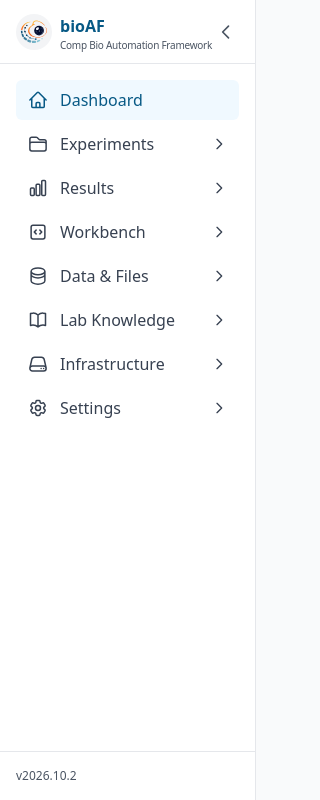
Test: Sidebar component gating › hides QC Dashboards when qc_dashboard component is not enabled
Click the button "Results": point(128, 188) x1=16 y1=168 x2=239 y2=208
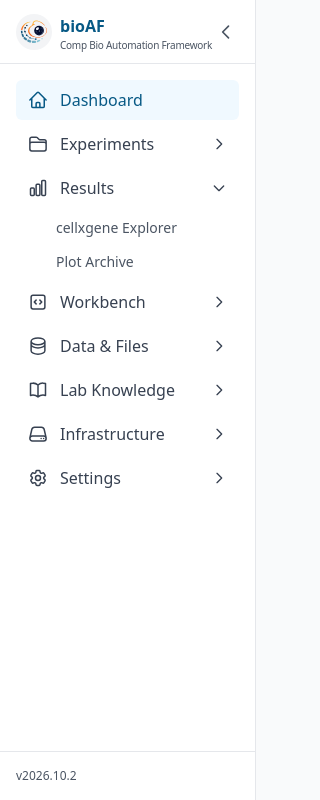
Result: the link "cellxgene Explorer" is shown at x1=56 y1=218 x2=177 y2=237
